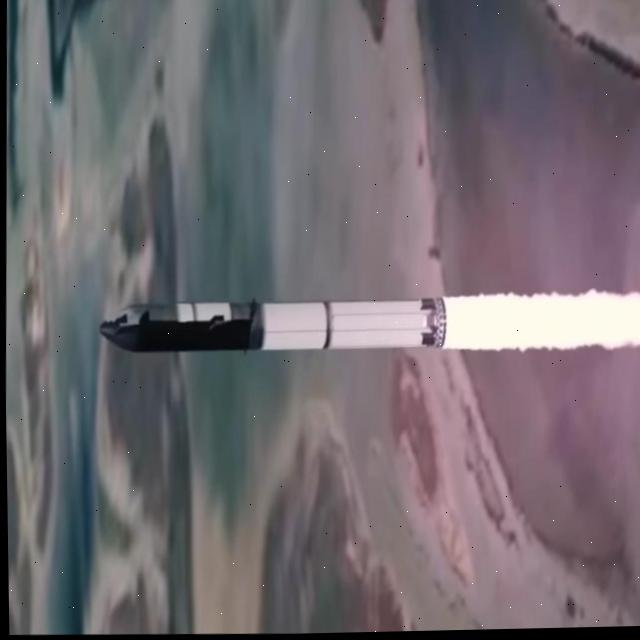missile: (99, 291, 447, 364)
